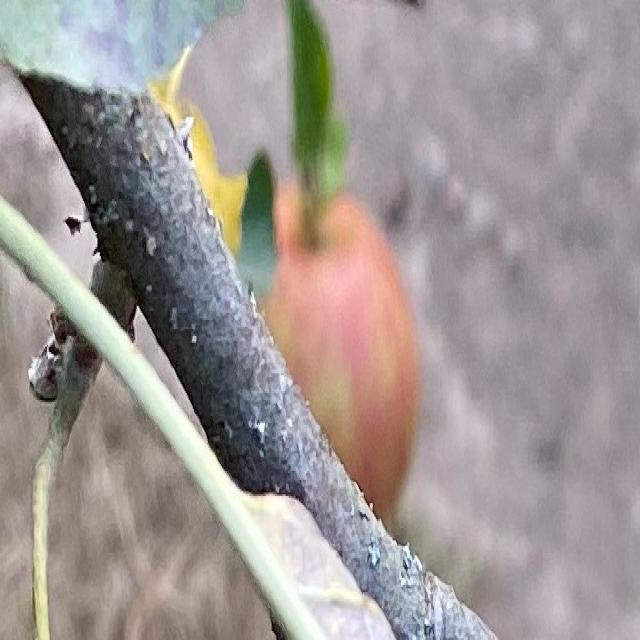Apples: (251, 180, 421, 519)
